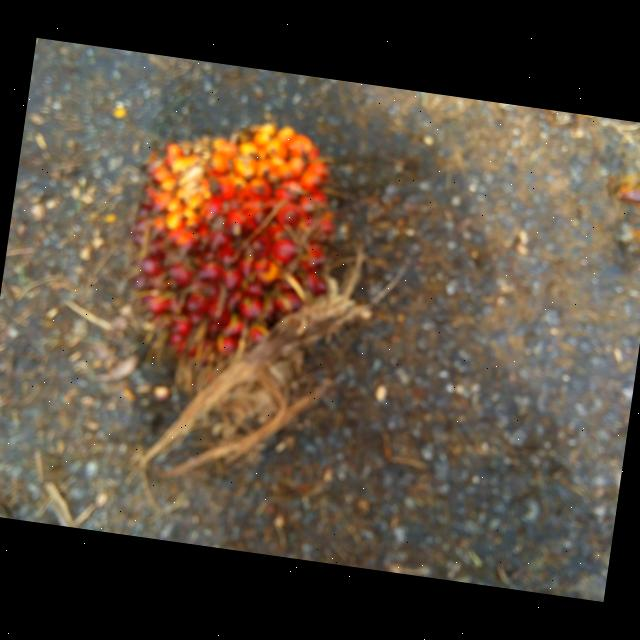Ripe: (132, 121, 359, 375)
